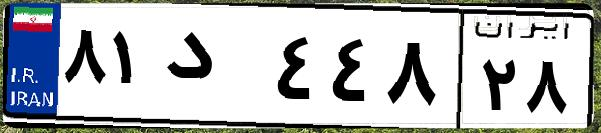1: (110, 28, 158, 98)
2: (475, 38, 525, 113)
4: (270, 28, 330, 110), (330, 28, 385, 110)
8: (385, 28, 445, 110), (57, 26, 110, 100), (525, 38, 570, 115)
د: (158, 20, 270, 120)
